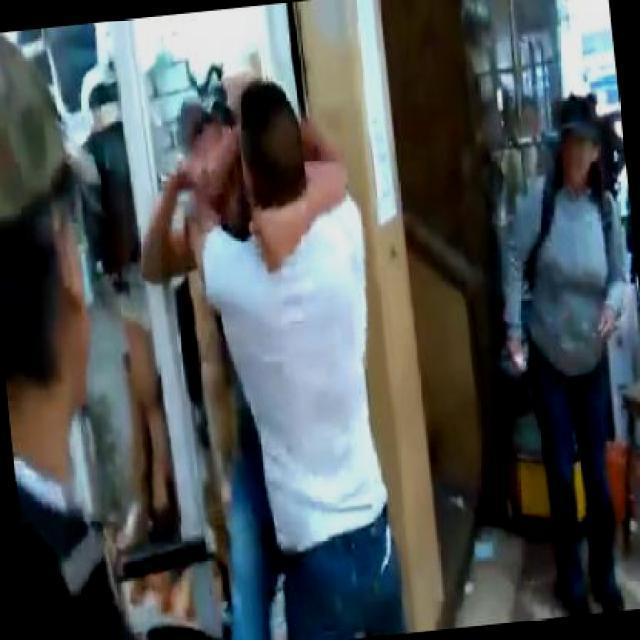fight: (121, 59, 412, 638)
